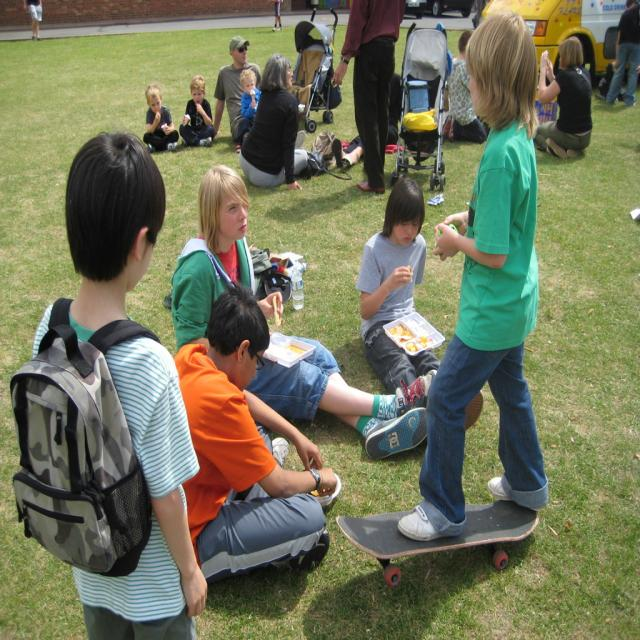backpack: (9, 301, 159, 584)
